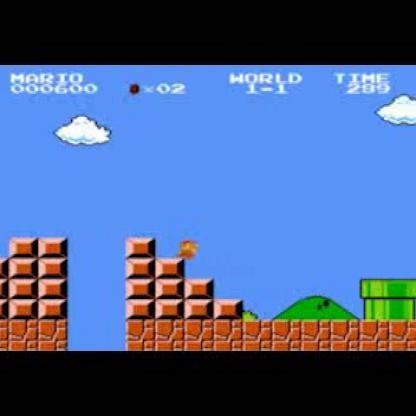Hoyo: (61, 320, 128, 350)
